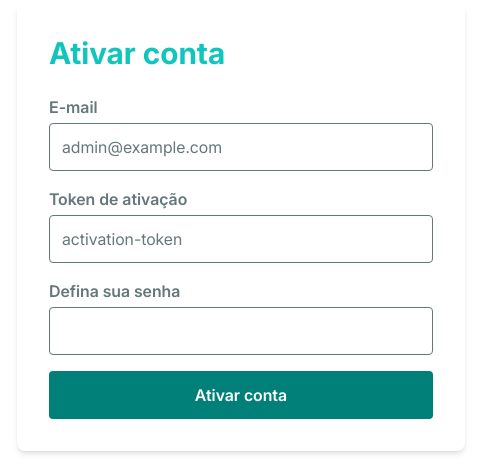
Test: account recovery journeys › activates an account from an email link
Step 1. Type "SenhaSegura1!" into the password field labelled "Defina sua senha" → (241, 331), box [49,307,433,355]
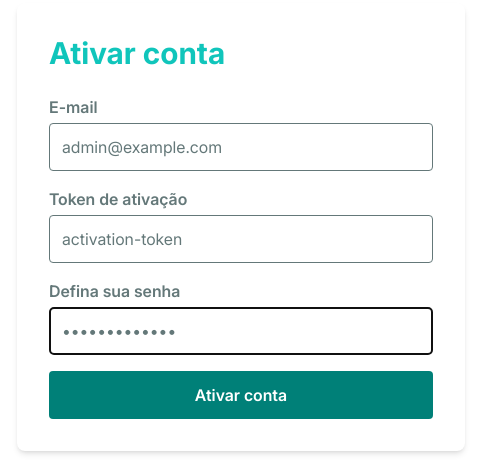
Step 2. Click the button "Ativar conta" → (241, 395), box [49,371,433,419]
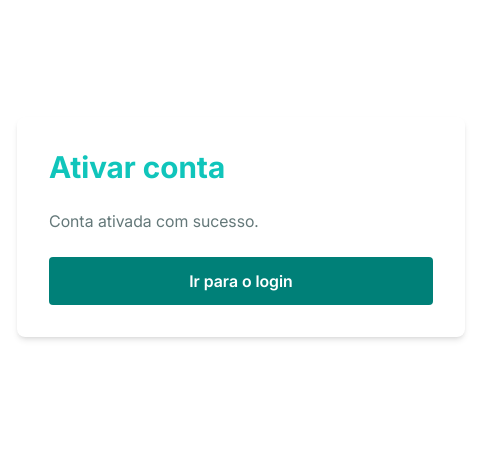
Now the text "Conta ativada com sucesso." is shown, box [49,211,259,231]
